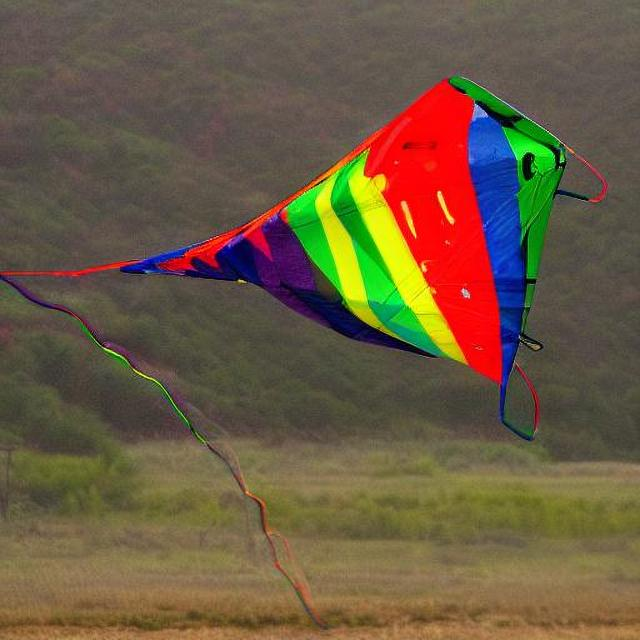floating object: (86, 80, 587, 407)
